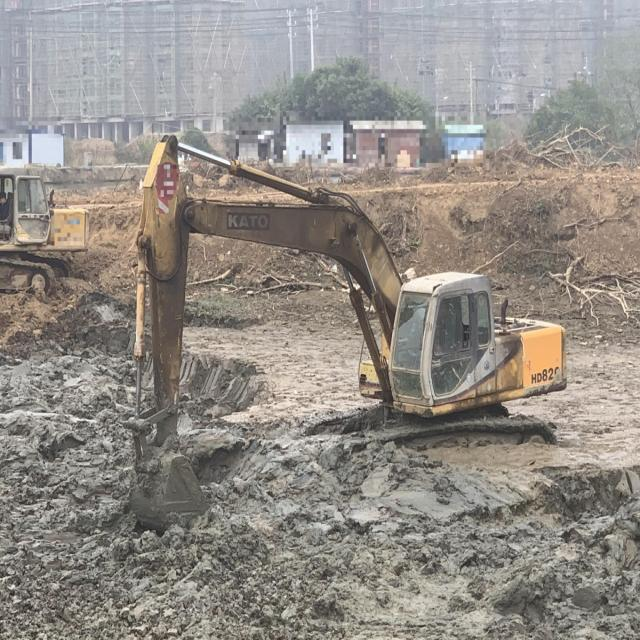excavator: (117, 134, 567, 537), (0, 164, 89, 297)
